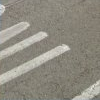crosswalk: (0, 21, 70, 87)
